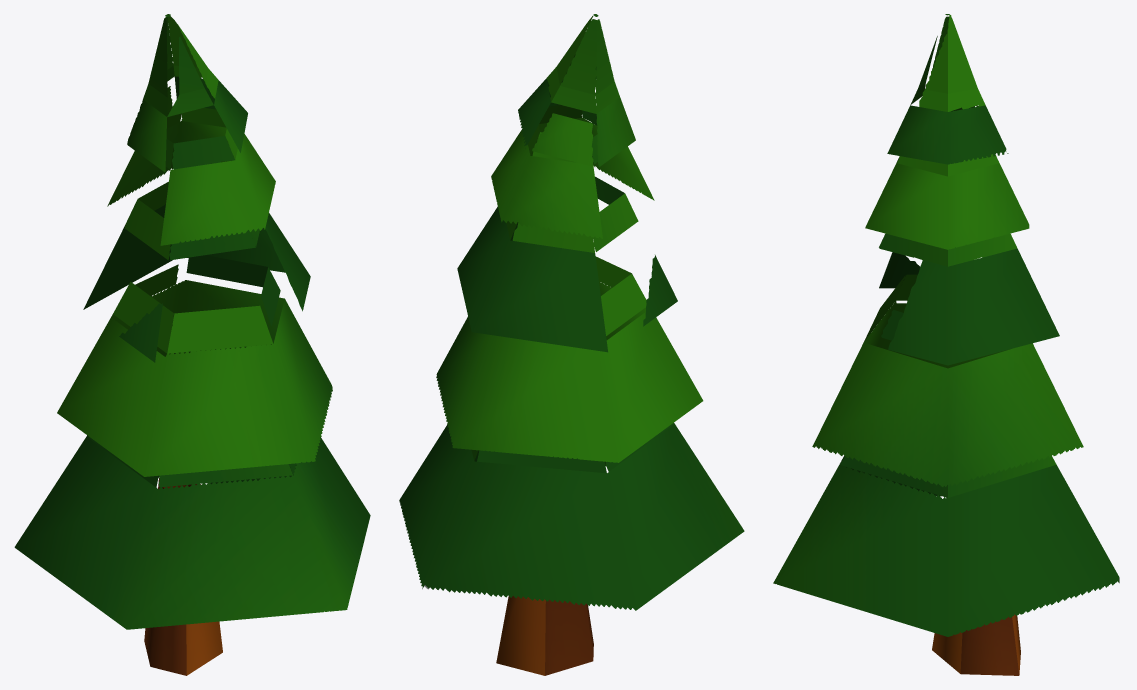
File: drzewo2.obj
3 renders of one model, left to right at view 1: azimuth 30°, elevation 25°; view 2: azimuth 150°, elevation 25°; view 3: azimuth 270°, elevation 25°, orthographic. The views are drawn at different scales.
Parts seen in each view (by area): view 1: Cylinder009; view 2: Cylinder009; view 3: Cylinder009.
Boxes of the visible parts, x1=… form: Cylinder009: x1=14, y1=14, x2=370, y2=675; Cylinder009: x1=399, y1=14, x2=744, y2=675; Cylinder009: x1=773, y1=14, x2=1119, y2=675.
Size of the model in its own units: 49.23 by 103 by 51.76.
